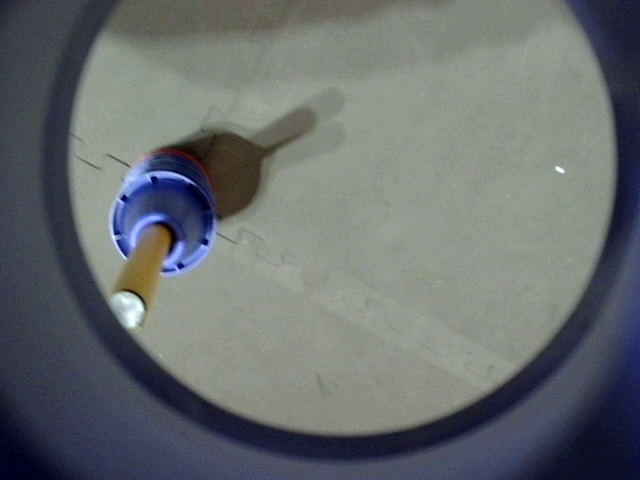cone: (593, 91, 640, 280)
